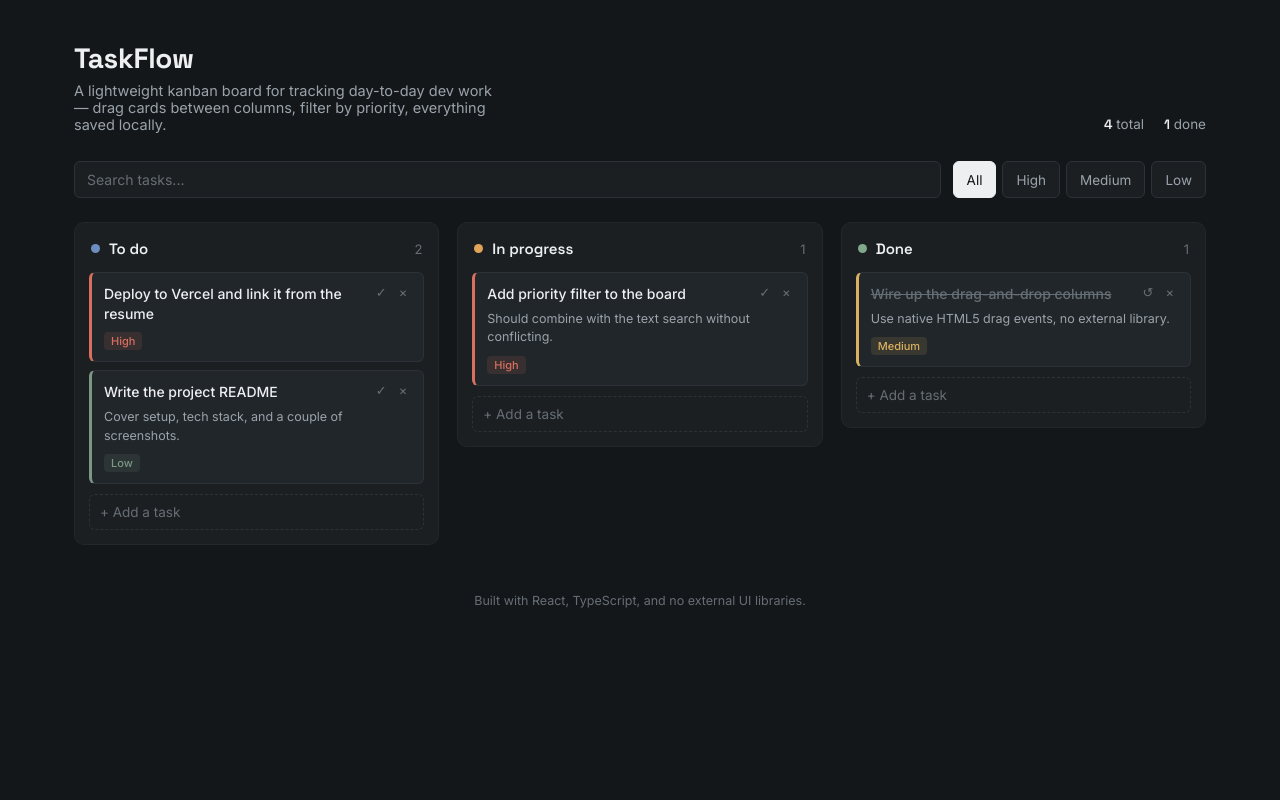
Test: TaskFlow board › adds a new task to the To do column
Click the button "+ Add a task" below "Write the project README" at [140, 512], box x1=89 y1=494 x2=424 y2=530
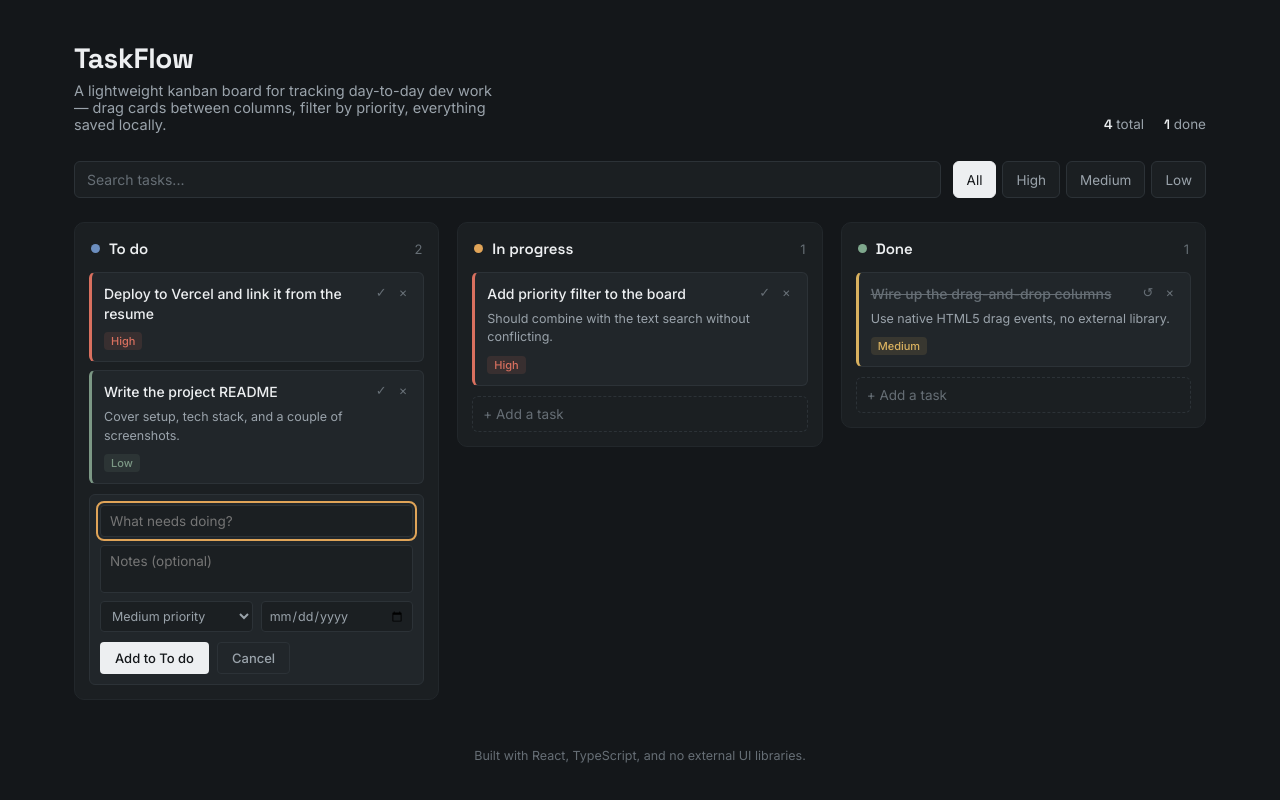
Type "Write unit tests" into the field named "Task title" at [257, 521], box x1=100 y1=505 x2=413 y2=537
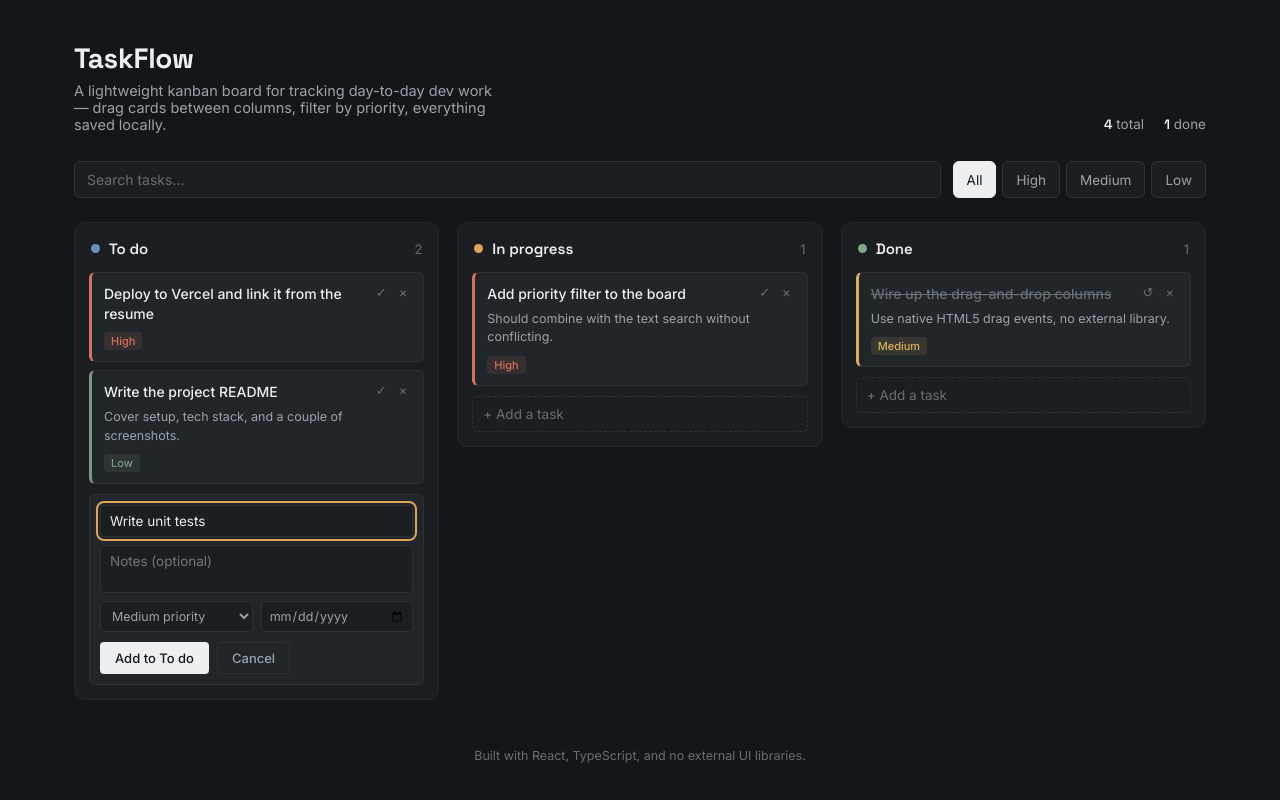
Click the button "Add to To do" at [154, 658], box x1=100 y1=642 x2=209 y2=674
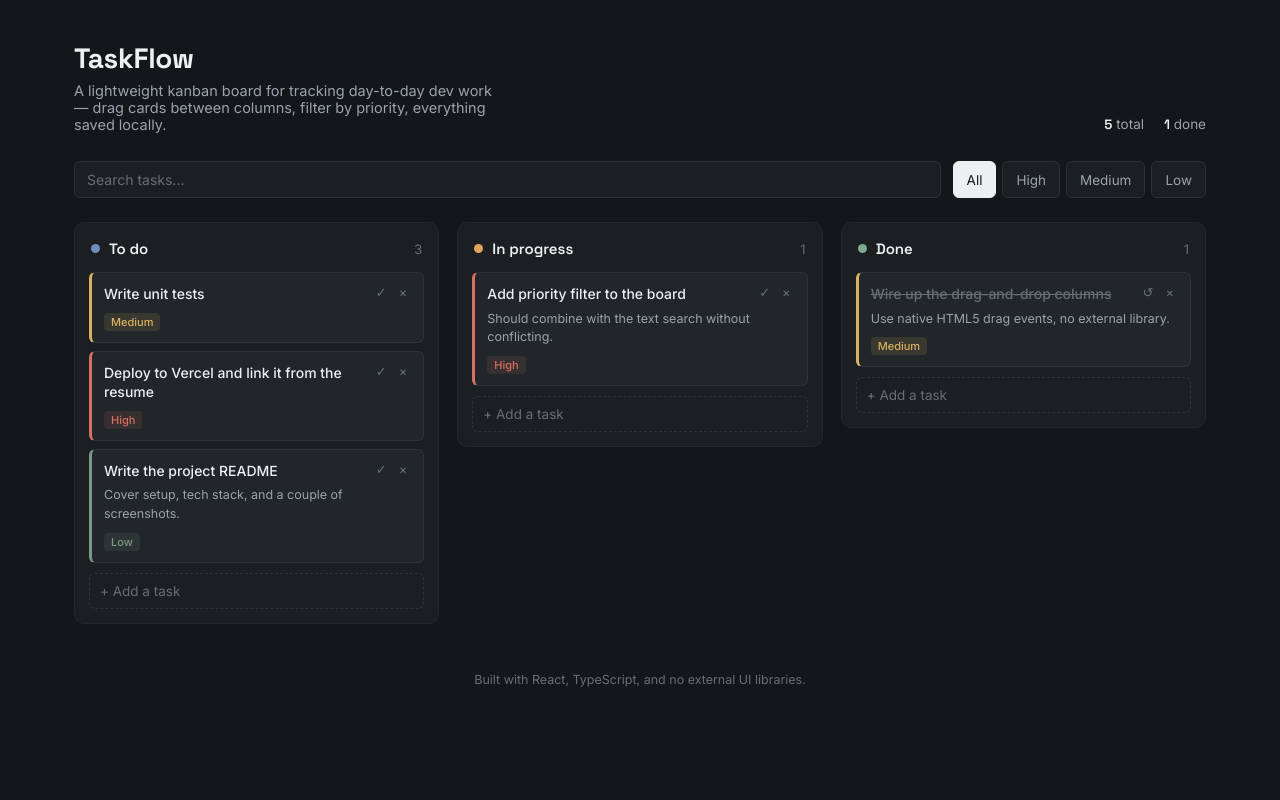
Now the text "Write unit tests" is shown, box x1=104 y1=284 x2=205 y2=304
